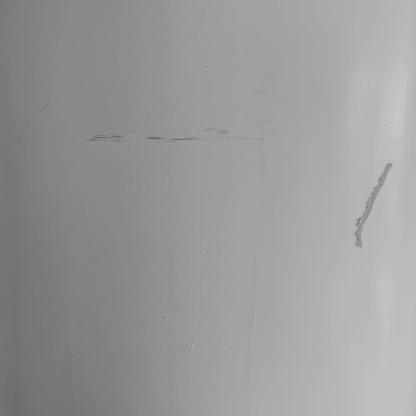sunshang: (355, 159, 392, 248), (88, 129, 242, 149)
